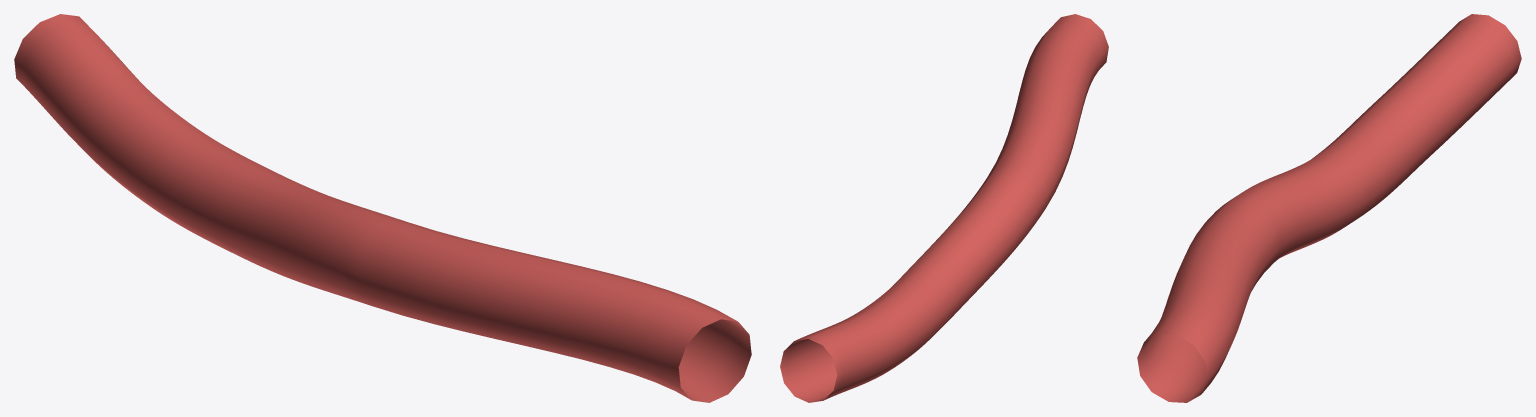
The picture shows the model from 3 angles, left to right: view 1: azimuth 30°, elevation 25°; view 2: azimuth 150°, elevation 25°; view 3: azimuth 330°, elevation 25°; orthographic projection. The views are drawn at different scales.
Parts seen in each view (by area): view 1: 左颈总动脉; view 2: 左颈总动脉; view 3: 左颈总动脉.
Boxes of the visible parts, x1,y1,x2,y2 form: 左颈总动脉: (14,14,751,402); 左颈总动脉: (780,14,1108,402); 左颈总动脉: (1137,14,1521,402).
Bounding box in the file's own units: 0.0337 × 0.0207 × 0.1346.
